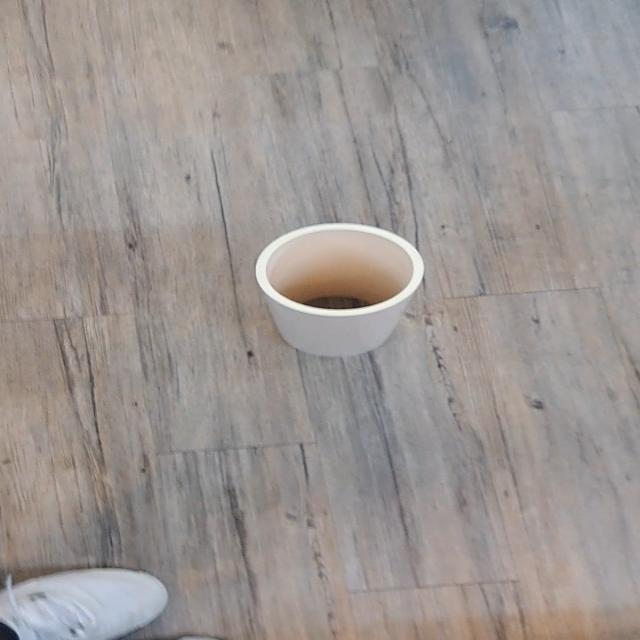CORAL: (247, 212, 438, 381)
